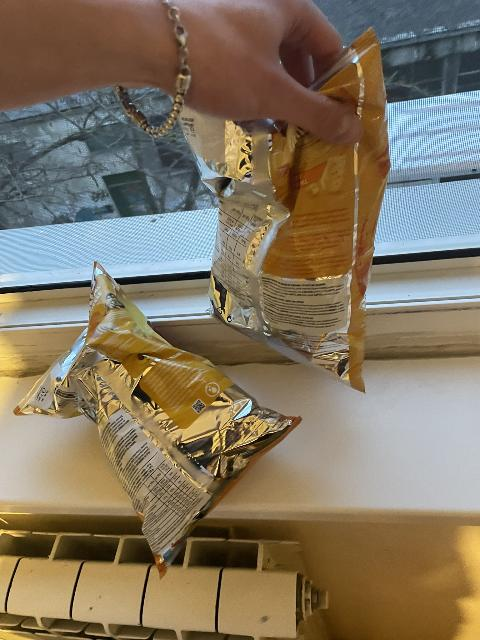Chio Cascaval 125g: (8, 262, 306, 567)
Chio Hula Hoops Cheese 70g: (191, 28, 387, 397)
